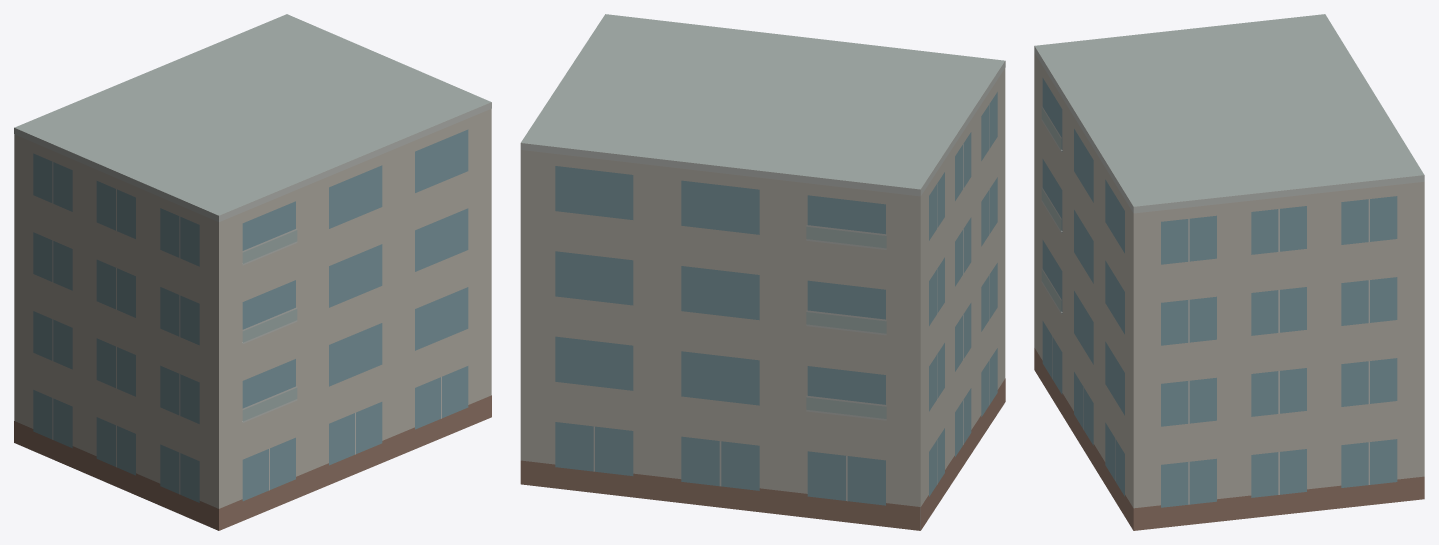
File: survey-upis-32720815.glb
3 renders of one model, left to right at view 1: azimuth 30°, elevation 25°; view 2: azimuth 150°, elevation 25°; view 3: azimuth 270°, elevation 25°, orthographic. The views are drawn at different scales.
Parts seen in each view (by area): view 1: survey-upis-32720815.tmp; view 2: survey-upis-32720815.tmp; view 3: survey-upis-32720815.tmp.
Part boxes in pixels (x1=…): survey-upis-32720815.tmp: x1=14, y1=14, x2=491, y2=530; survey-upis-32720815.tmp: x1=520, y1=14, x2=1005, y2=530; survey-upis-32720815.tmp: x1=1034, y1=14, x2=1424, y2=530.
Bounding box in the file's own units: 15.2 × 11.9 × 13.
